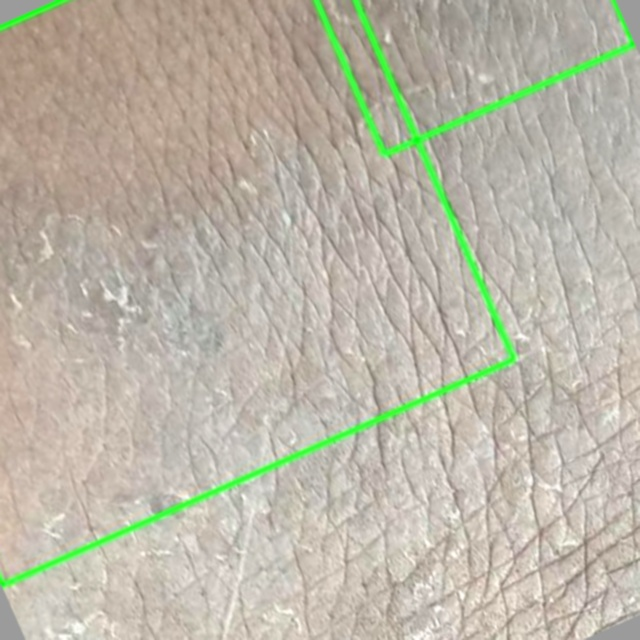Eczema: (0, 0, 513, 583)
